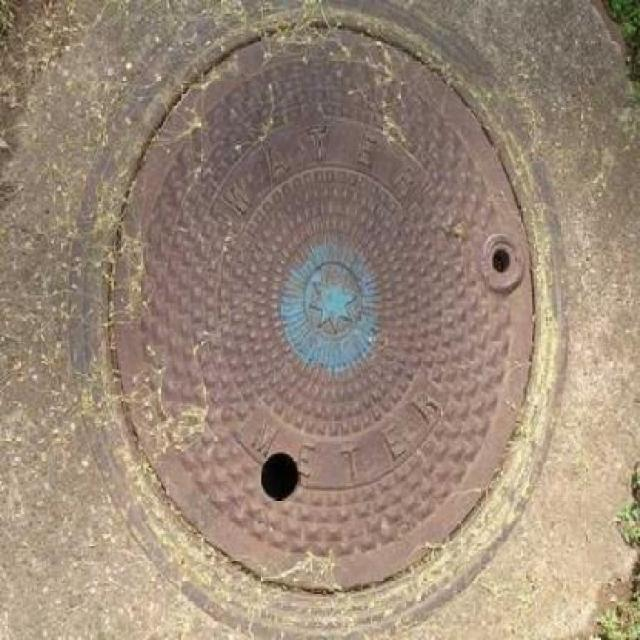Manhole: (33, 3, 632, 640)
